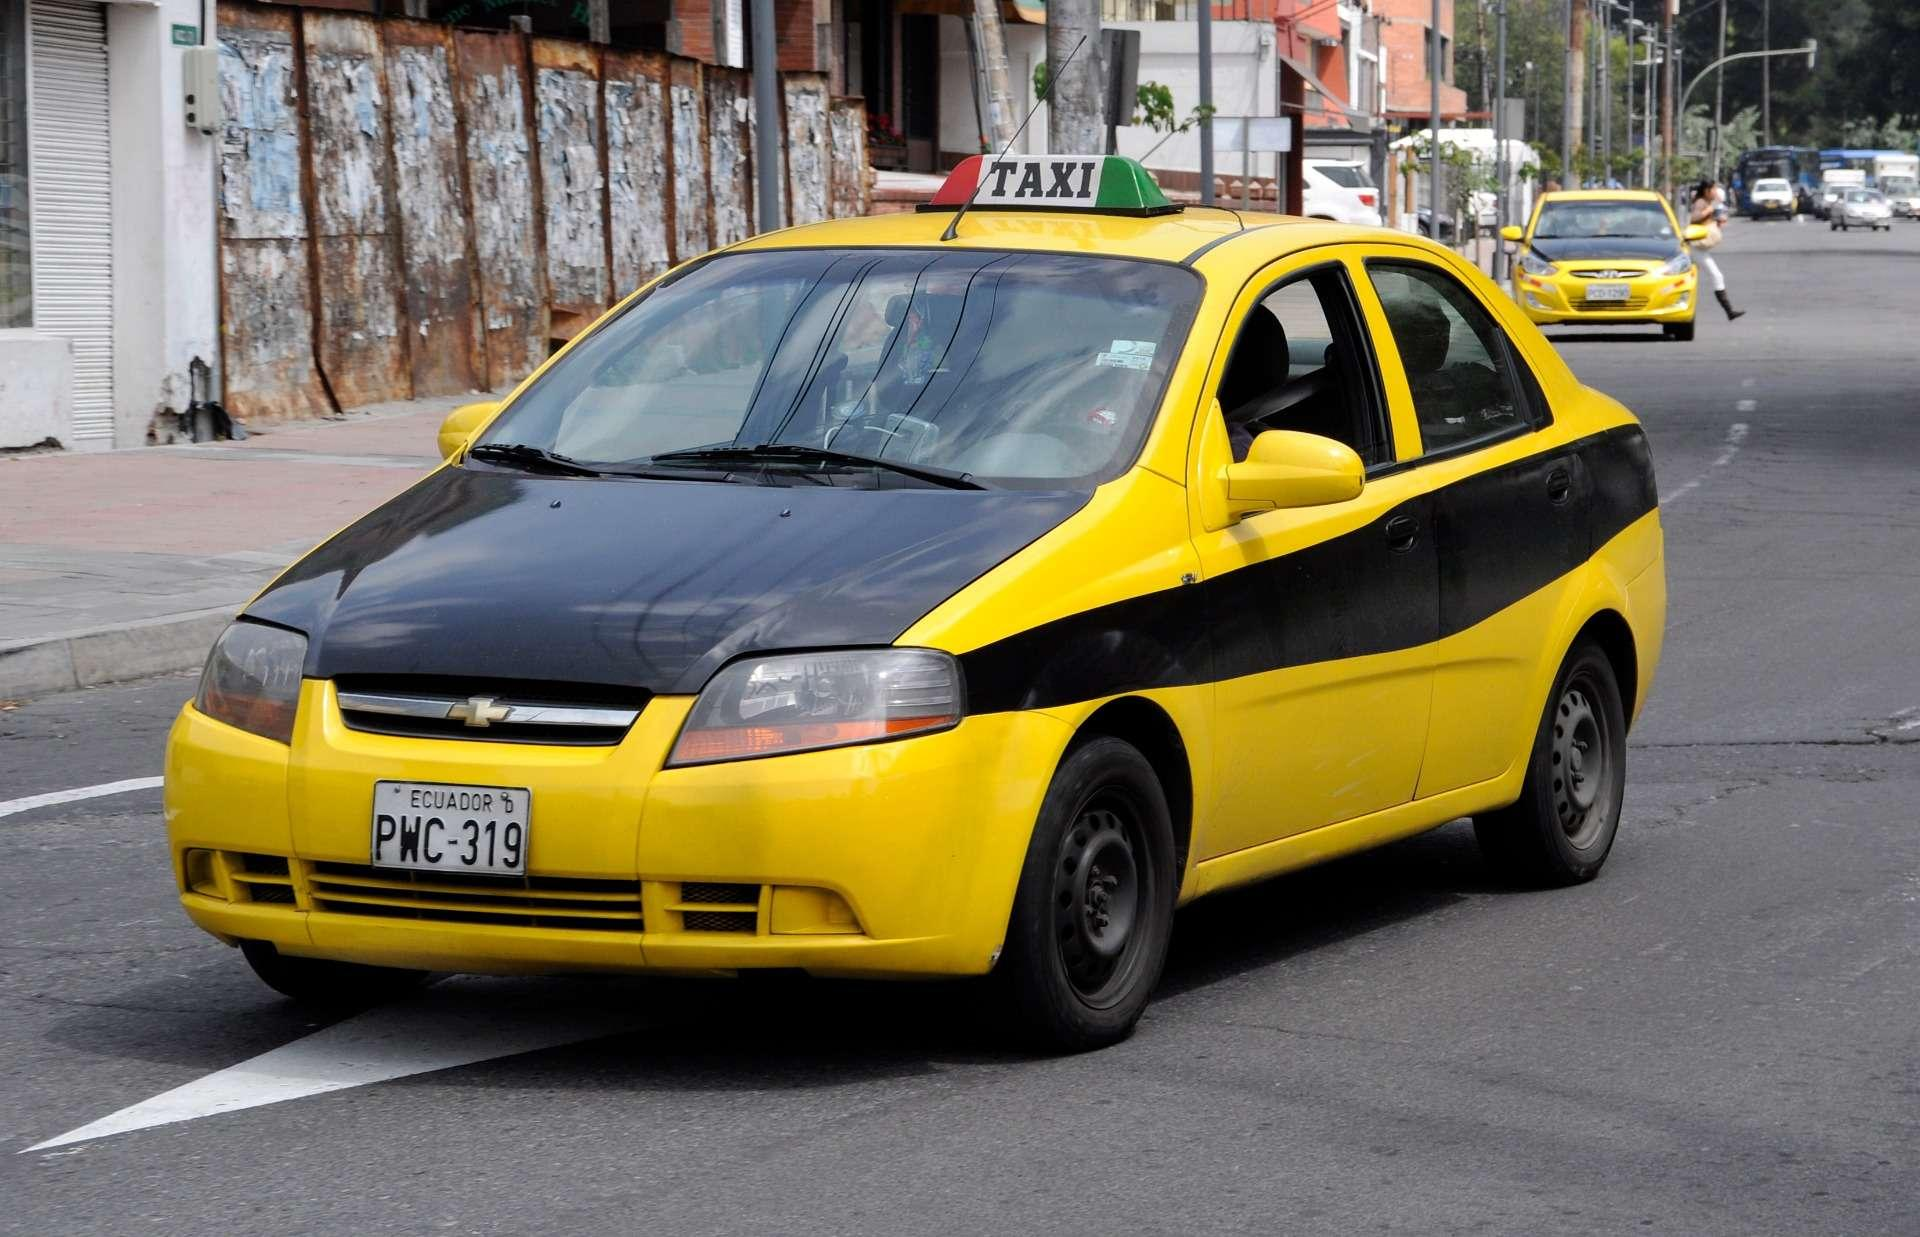taxi: (167, 141, 1671, 1013)
